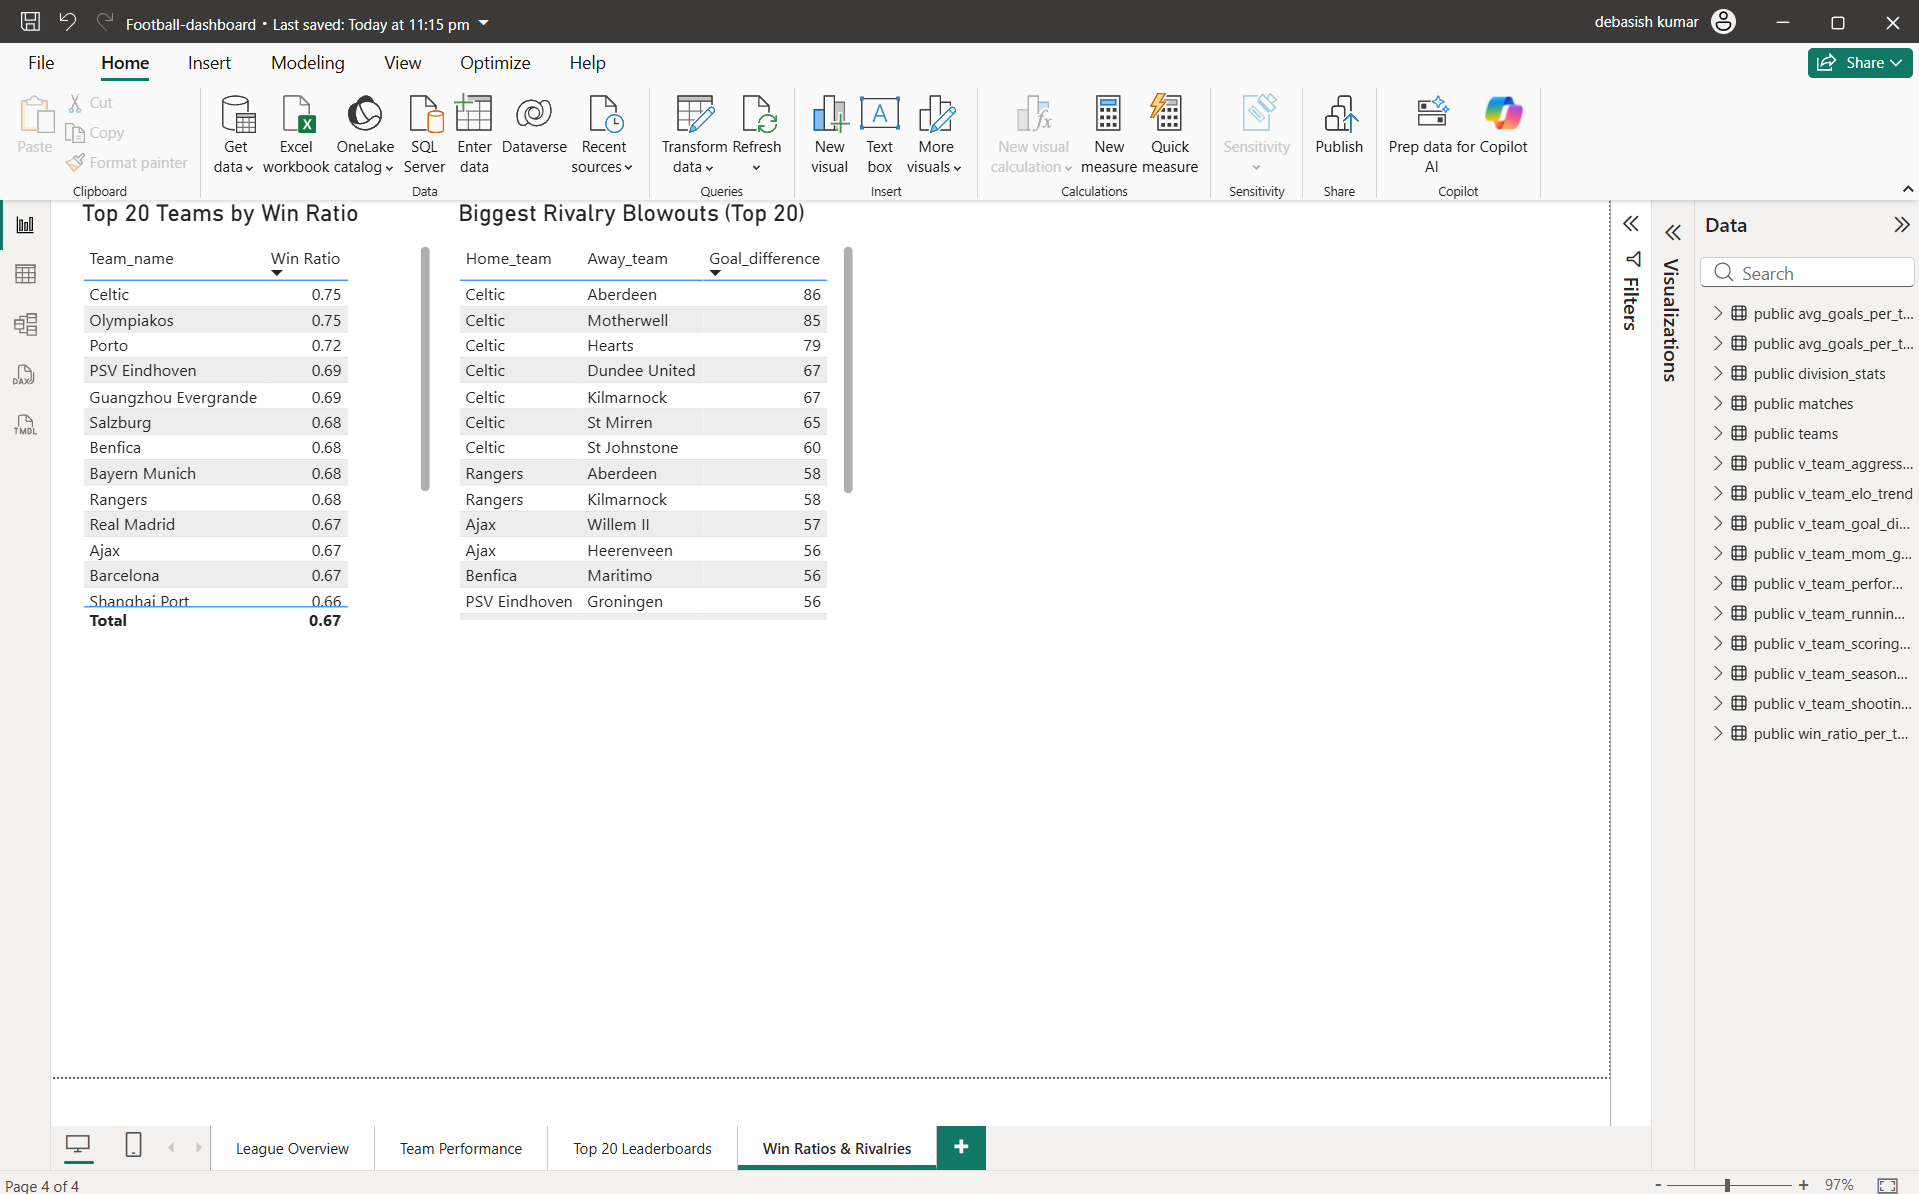

Layout of this report page (visuals, bound fields, positions):
{"tool":"powerbi","page":{"name":"Win Ratios & Rivalries","canvas":[1280,720],"ordinal":3},"visuals":[{"type":"tableEx","title":"Top 20 Teams by Win Ratio","fields":{"Values":["public win_ratio_per_team.team_name","Avg(public win_ratio_per_team.win_ratio)"]},"box":[20.6,0,296.4,359.5],"z":0},{"type":"tableEx","title":"Biggest Rivalry Blowouts (Top 20)","fields":{"Values":["public v_team_goal_difference.home_team","public v_team_goal_difference.away_team","public v_team_goal_difference.goal_difference"]},"box":[329.3,0,334.8,349.9],"z":1000}]}

Visuals, with their boxes on the page's 1280x720 design canvas (x1, y1, x2, y2). These are canvas units, not pixel positions in the 1919x1194 screenshot, which may show the page scaled, cropped or inside an application window:
"Top 20 Teams by Win Ratio" tableEx: x1=21, y1=0, x2=317, y2=360
"Biggest Rivalry Blowouts (Top 20)" tableEx: x1=329, y1=0, x2=664, y2=350
